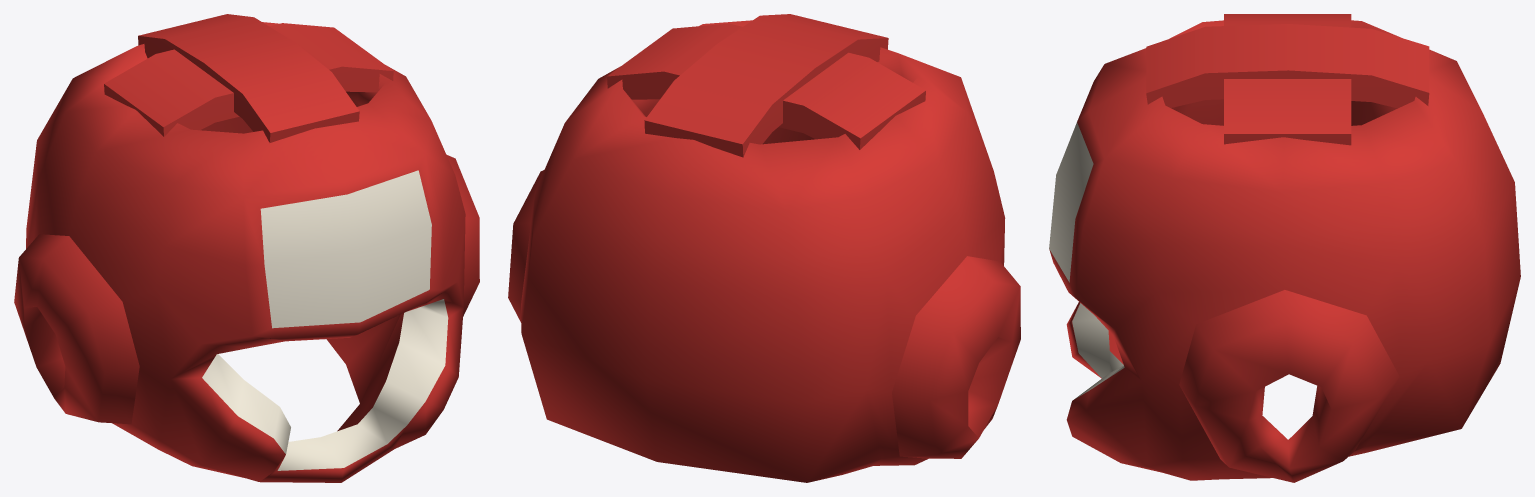
Rendered from Headgear_38.fbx.
3 renders of one model, left to right at view 1: azimuth 30°, elevation 25°; view 2: azimuth 150°, elevation 25°; view 3: azimuth 270°, elevation 25°, orthographic. The views are drawn at different scales.
Parts seen in each view (by area): view 1: Headgear_38; view 2: Headgear_38; view 3: Headgear_38.
Part boxes in pixels (box(x1,y1,x2,y2)): Headgear_38: box(14, 14, 479, 482); Headgear_38: box(508, 14, 1020, 482); Headgear_38: box(1049, 14, 1520, 482).
Size of the model in its own units: 89.64 by 76.93 by 81.09.
